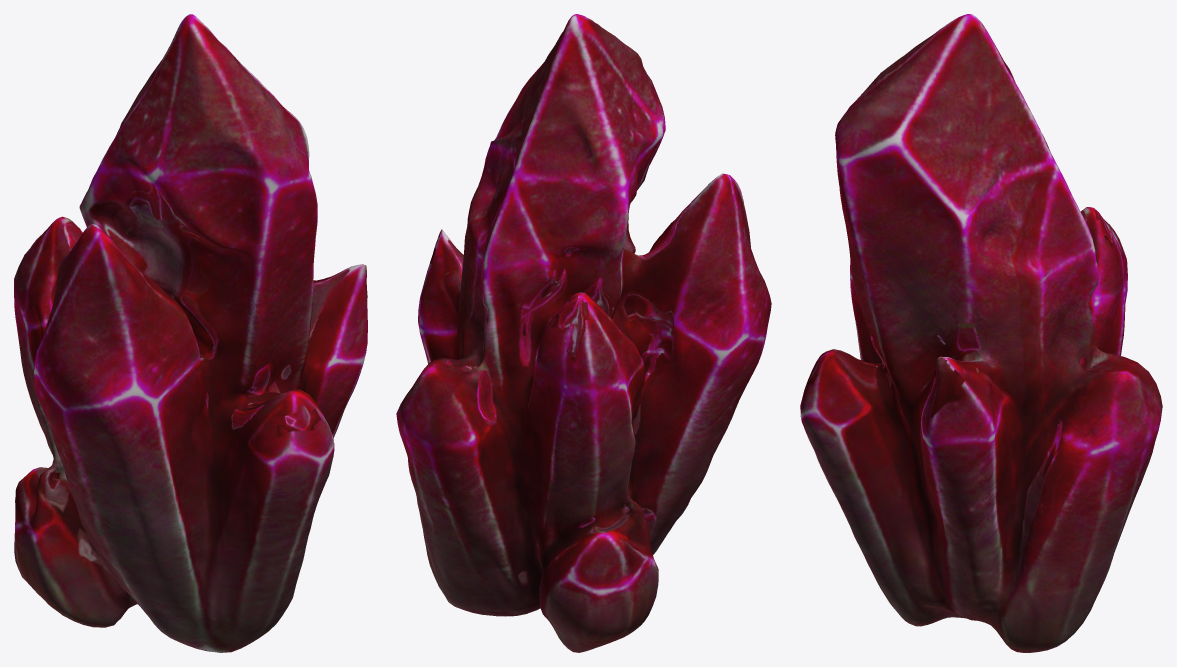
The model's file is 5b3fed1ce24c_glowing_ruby_red_ga.fbx.
3 views of the same model, side by side, from view 1: azimuth 30°, elevation 25°; view 2: azimuth 150°, elevation 25°; view 3: azimuth 270°, elevation 25° (orthographic). The views are drawn at different scales.
Visible parts, largest first — view 1: mesh; view 2: mesh; view 3: mesh.
Part boxes in pixels (x1,y1,x2,y2): mesh: [14, 14, 367, 652]; mesh: [396, 14, 771, 652]; mesh: [800, 14, 1162, 652].
Bounding box in the file's own units: 55.17 × 99.44 × 54.07.
